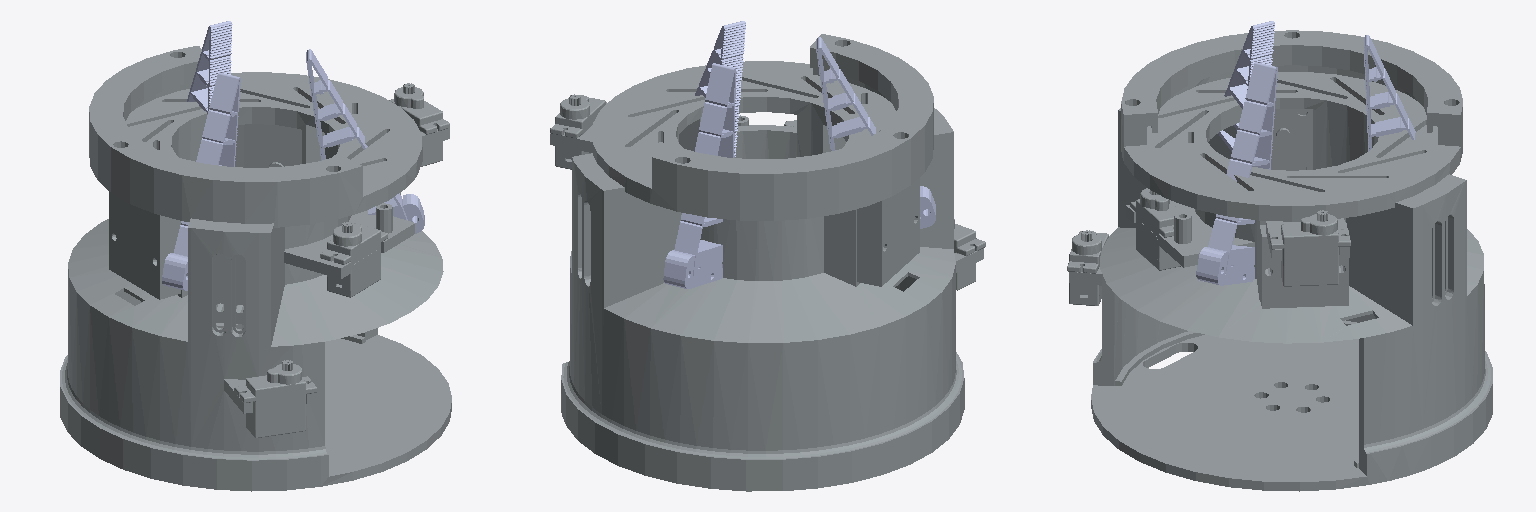
The robot description file, URDF, robot "gripper_description":
<?xml version="1.0" encoding="utf-8"?>
<!-- This URDF was automatically created by SolidWorks to URDF Exporter! Originally created by Stephen Brawner (brawner@gmail.com) 
     Commit Version: 1.6.0-4-g7f85cfe  Build Version: 1.6.7995.38578
     For more information, please see http://wiki.ros.org/sw_urdf_exporter -->
<robot
  name="gripper_description">
  <link
    name="gripper_base">
    <inertial>
      <origin
        xyz="0.00339360041295533 0.00390943993004908 0.136475277742093"
        rpy="0 0 0" />
      <mass
        value="0.0143482759462046" />
      <inertia
        ixx="5.8435930339926E-06"
        ixy="-2.90851015401986E-07"
        ixz="-6.45923877811227E-08"
        iyy="6.43017873000814E-06"
        iyz="-1.96938322213135E-07"
        izz="3.10943032786674E-06" />
    </inertial>
    <visual>
      <origin
        xyz="0 0 0"
        rpy="0 0 0" />
      <geometry>
        <mesh
          filename="package://gripper_description/meshes/gripper_base.STL" />
      </geometry>
      <material
        name="">
        <color
          rgba="0.63921568627451 0.666666666666667 0.67843137254902 1" />
      </material>
    </visual>
    <collision>
      <origin
        xyz="0 0 0"
        rpy="0 0 0" />
      <geometry>
        <mesh
          filename="package://gripper_description/meshes/gripper_base.STL" />
      </geometry>
    </collision>
  </link>
  <link
    name="finger1">
    <inertial>
      <origin
        xyz="-0.00203541582710084 0.0190771541182107 0.000525954070715446"
        rpy="0 0 0" />
      <mass
        value="0.00782891096864025" />
      <inertia
        ixx="3.77261998368603E-06"
        ixy="8.02014796850071E-07"
        ixz="3.76765367337649E-10"
        iyy="1.08691866825849E-06"
        iyz="-3.56355497919595E-09"
        izz="4.72511559656407E-06" />
    </inertial>
    <visual>
      <origin
        xyz="0 0 0"
        rpy="0 0 0" />
      <geometry>
        <mesh
          filename="package://gripper_description/meshes/finger1.STL" />
      </geometry>
      <material
        name="">
        <color
          rgba="0.792156862745098 0.819607843137255 0.933333333333333 1" />
      </material>
    </visual>
    <collision>
      <origin
        xyz="0 0 0"
        rpy="0 0 0" />
      <geometry>
        <mesh
          filename="package://gripper_description/meshes/finger1.STL" />
      </geometry>
    </collision>
  </link>
  <joint
    name="finger_joint1"
    type="revolute">
    <origin
      xyz="-5.0192E-05 0.048 0.10015"
      rpy="1.5708 0 1.5708" />
    <parent
      link="gripper_base" />
    <child
      link="finger1" />
    <axis
      xyz="0 0 1" />
    <limit
      lower="-1.57"
      upper="1.57"
      effort="0.1"
      velocity="0.1" />
  </joint>
  <link
    name="finger2">
    <inertial>
      <origin
        xyz="-0.0038558015021013 0.0187939656849217 -0.00272404592928441"
        rpy="0 0 0" />
      <mass
        value="0.00782891096864027" />
      <inertia
        ixx="3.59476889201338E-06"
        ixy="1.04367218720305E-06"
        ixz="7.16830553519525E-10"
        iyy="1.26476975992898E-06"
        iyz="-3.51098706803184E-09"
        izz="4.72511559656191E-06" />
    </inertial>
    <visual>
      <origin
        xyz="0 0 0"
        rpy="0 0 0" />
      <geometry>
        <mesh
          filename="package://gripper_description/meshes/finger2.STL" />
      </geometry>
      <material
        name="">
        <color
          rgba="0.792156862745098 0.819607843137255 0.933333333333333 1" />
      </material>
    </visual>
    <collision>
      <origin
        xyz="0 0 0"
        rpy="0 0 0" />
      <geometry>
        <mesh
          filename="package://gripper_description/meshes/finger2.STL" />
      </geometry>
    </collision>
  </link>
  <joint
    name="finger_joint2"
    type="revolute">
    <origin
      xyz="0.040469 -0.025905 0.10015"
      rpy="1.5708 0 -0.5236" />
    <parent
      link="gripper_base" />
    <child
      link="finger2" />
    <axis
      xyz="0 0 1" />
    <limit
      lower="-1.57"
      upper="1.57"
      effort="0.1"
      velocity="0.1" />
    <mimic
      joint="finger_joint1"
      multiplier="1.0"
      offset="0.0" />
  </joint>
  <link
    name="finger3">
    <inertial>
      <origin
        xyz="-0.00181576958539086 0.0190993020774704 -0.00272404592928438"
        rpy="0 0 0" />
      <mass
        value="0.00782891096864027" />
      <inertia
        ixx="3.79071733399285E-06"
        ixy="7.70906053129207E-07"
        ixz="3.35742415810566E-10"
        iyy="1.06882131795606E-06"
        iyz="-3.56765374742625E-09"
        izz="4.72511559656845E-06" />
    </inertial>
    <visual>
      <origin
        xyz="0 0 0"
        rpy="0 0 0" />
      <geometry>
        <mesh
          filename="package://gripper_description/meshes/finger3.STL" />
      </geometry>
      <material
        name="">
        <color
          rgba="0.792156862745098 0.819607843137255 0.933333333333333 1" />
      </material>
    </visual>
    <collision>
      <origin
        xyz="0 0 0"
        rpy="0 0 0" />
      <geometry>
        <mesh
          filename="package://gripper_description/meshes/finger3.STL" />
      </geometry>
    </collision>
  </link>
  <joint
    name="finger_joint3"
    type="revolute">
    <origin
      xyz="-0.042669 -0.022095 0.10015"
      rpy="1.5708 0 -2.618" />
    <parent
      link="gripper_base" />
    <child
      link="finger3" />
    <axis
      xyz="0 0 1" />
    <limit
      lower="-1.57"
      upper="1.57"
      effort="0.1"
      velocity="0.1" />
    <mimic
      joint="finger_joint1"
      multiplier="1.0"
      offset="0.1" />
  </joint>
</robot>

--- What the picture shows (computed from the rendered views, not written in the file) ---
The picture shows the robot from 3 angles, left to right: view 1: azimuth 30°, elevation 25°; view 2: azimuth 150°, elevation 25°; view 3: azimuth 270°, elevation 25°; orthographic projection.
Robot: gripper_description — 4 links, 3 joints (3 revolute); root link gripper_base; default pose: all joints at 0.
Visible links, largest first — view 1: gripper_base, finger3, finger2, finger1; view 2: gripper_base, finger1, finger3, finger2; view 3: gripper_base, finger2, finger1, finger3.
Link boxes in pixels (x1,y1,x2,y2): gripper_base: (60, 46, 451, 491); finger3: (162, 72, 240, 290); finger2: (306, 49, 424, 233); finger1: (187, 21, 232, 113); gripper_base: (550, 34, 985, 491); finger1: (663, 63, 736, 288); finger3: (816, 37, 935, 228); finger2: (695, 21, 745, 157); gripper_base: (1067, 30, 1492, 491); finger2: (1196, 62, 1277, 285); finger1: (1364, 35, 1415, 151); finger3: (1218, 21, 1274, 151).
Size in the robot's own frame: 0.1687 by 0.1714 by 0.1849 metres.
Meshes: 4 distinct files referenced, 4 mesh visuals loaded (4 binary STL).
